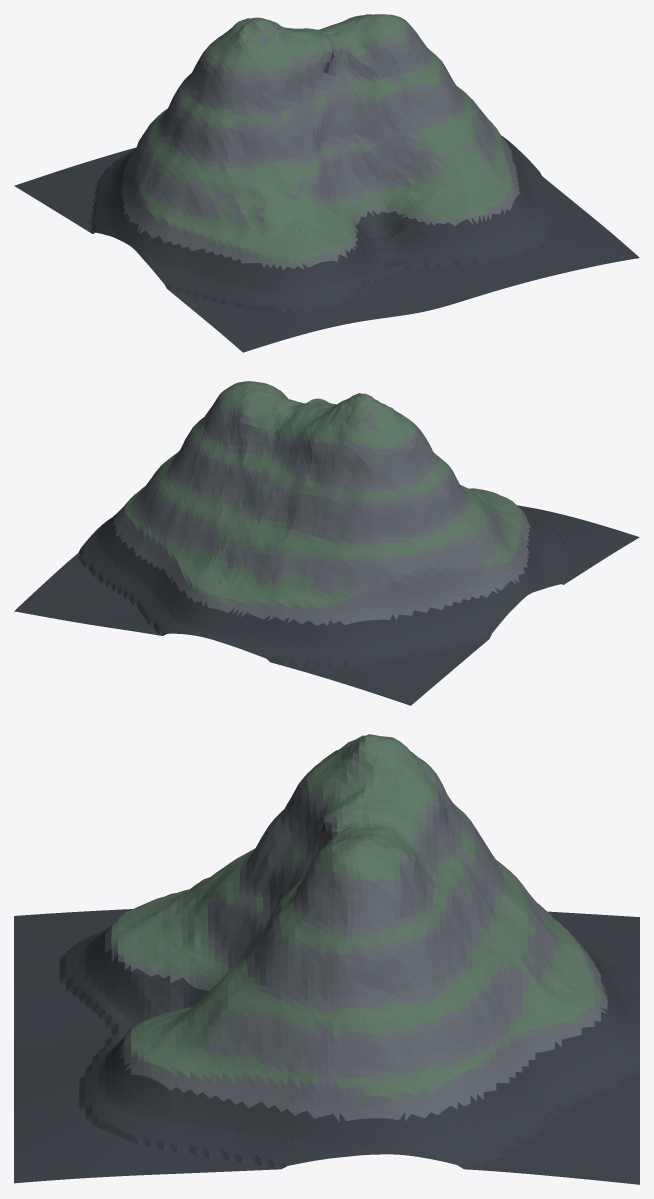
Rendered from island_large_archipelago.glb.
3 renders of one model, top to bottom at view 1: azimuth 30°, elevation 25°; view 2: azimuth 150°, elevation 25°; view 3: azimuth 270°, elevation 25°, orthographic. The views are drawn at different scales.
Visible parts, largest first — view 1: IslandLargeArchipelago; view 2: IslandLargeArchipelago; view 3: IslandLargeArchipelago.
Part boxes in pixels (x1,y1,x2,y2): IslandLargeArchipelago: (14,14,639,352); IslandLargeArchipelago: (14,381,639,705); IslandLargeArchipelago: (14,734,639,1184).
Size of the model in its own units: 72 by 35.64 by 72.
